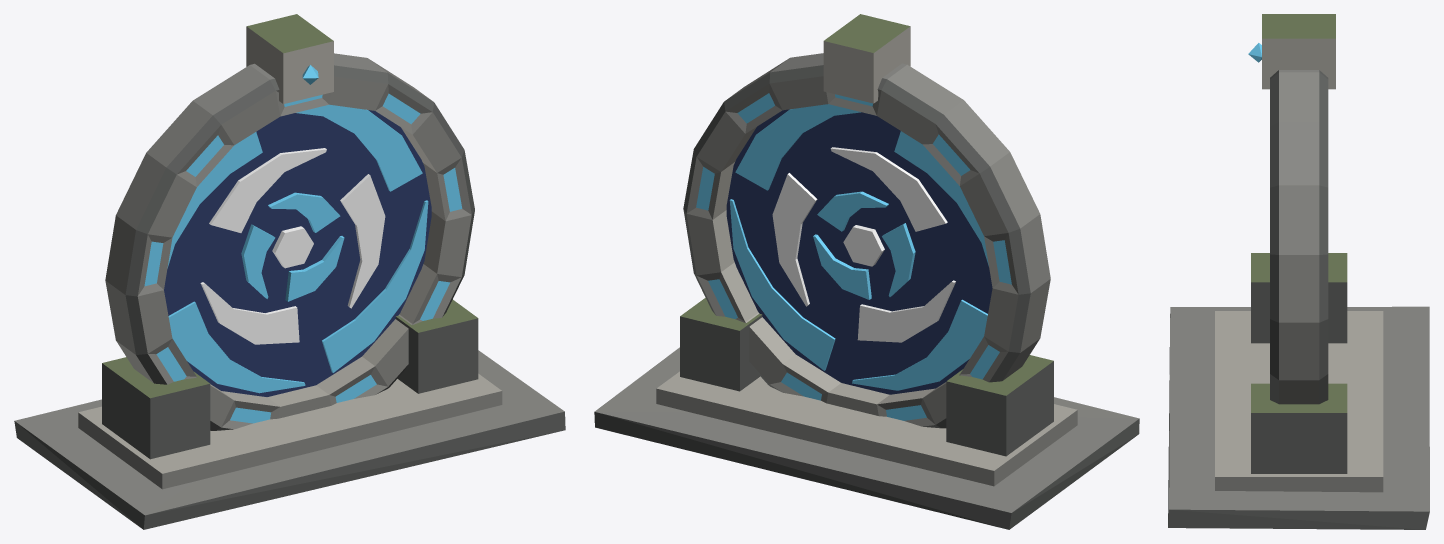
The model's file is portal_ring.fbx.
The picture shows the model from 3 angles, left to right: view 1: azimuth 30°, elevation 25°; view 2: azimuth 150°, elevation 25°; view 3: azimuth 270°, elevation 25°; orthographic projection.
Visible parts, largest first — view 1: portal_ring; view 2: portal_ring; view 3: portal_ring.
Boxes of the visible parts, left/top/right/bottom form: portal_ring: left=14, top=14, right=565, bottom=529; portal_ring: left=594, top=14, right=1139, bottom=529; portal_ring: left=1168, top=14, right=1429, bottom=529.
Size of the model in its own units: 4.33 by 3.95 by 2.34.
